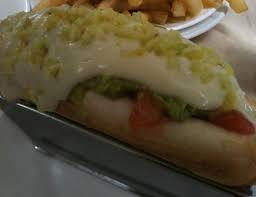Completos: (0, 2, 256, 186)
